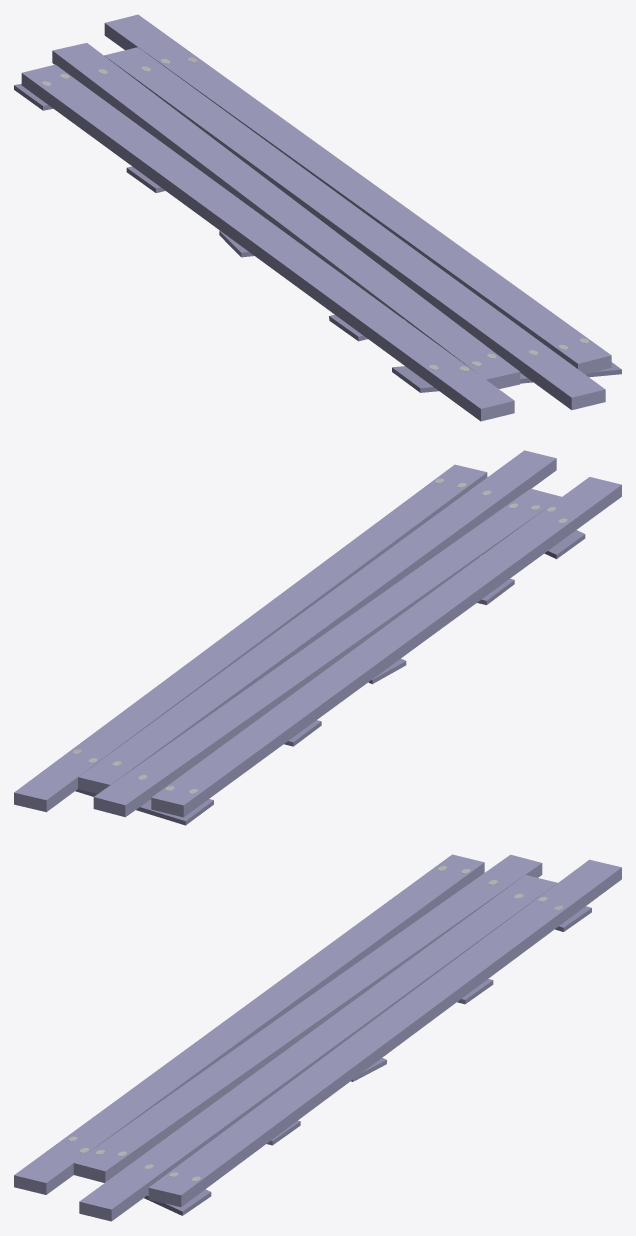
The model's file is bridge.fbx.
3 renders of one model, top to bottom at view 1: azimuth 30°, elevation 25°; view 2: azimuth 150°, elevation 25°; view 3: azimuth 330°, elevation 25°, orthographic. The views are drawn at different scales.
Parts seen in each view (by area): view 1: pasted__group_pasted__pasted__pCube1; view 2: pasted__group_pasted__pasted__pCube1; view 3: pasted__group_pasted__pasted__pCube1.
Boxes of the visible parts, left/top/right/bottom form: pasted__group_pasted__pasted__pCube1: left=14, top=14, right=621, bottom=421; pasted__group_pasted__pasted__pCube1: left=14, top=450, right=621, bottom=825; pasted__group_pasted__pasted__pCube1: left=14, top=854, right=621, bottom=1221.
Bounding box in the file's own units: 5.04 × 0.5152 × 25.62.
